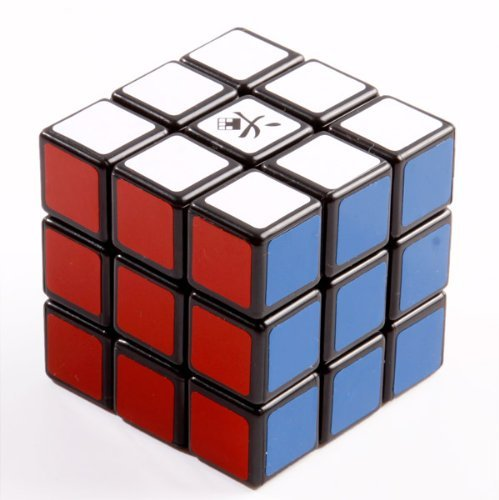cube: (34, 22, 459, 489)
